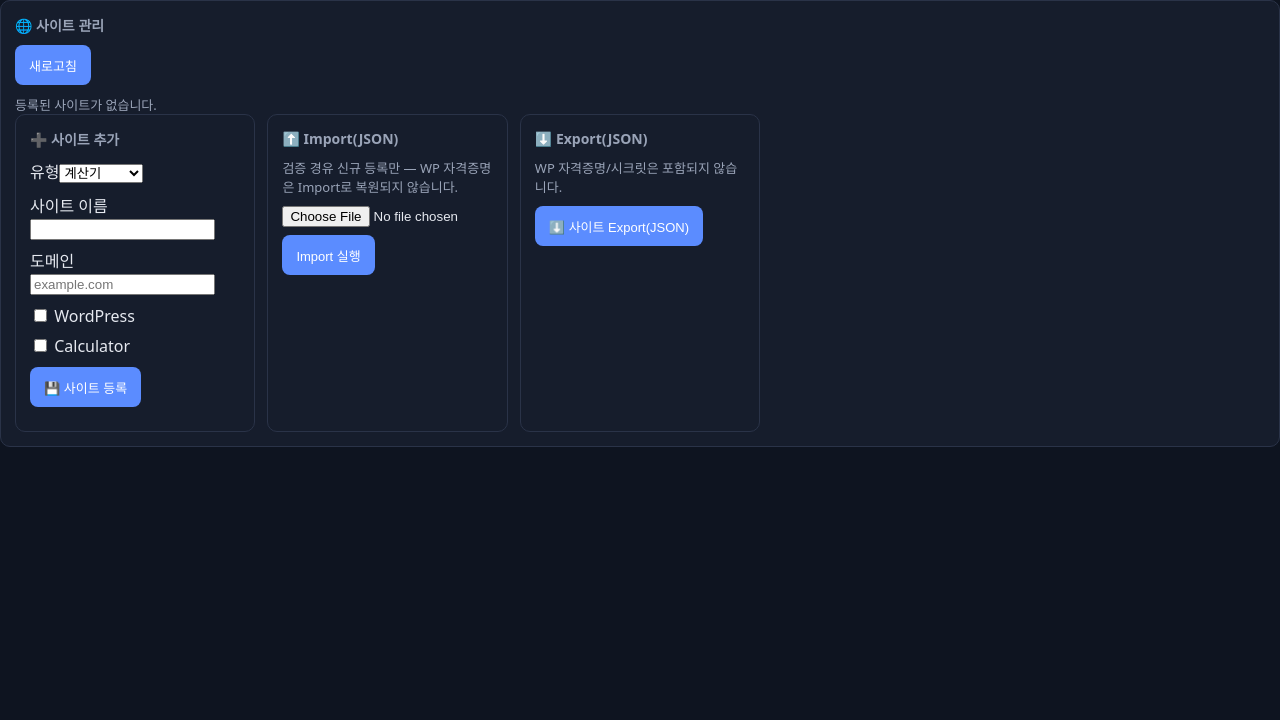
Site Create form (STEP P2-06) › shows the WordPress credential fields only when the WordPress checkbox is checked
Expected: the button "💾 사이트 등록" is enabled, [30,367,141,407]
Expected: the field labelled "WordPress URL" is not shown
Step 1. Click the checkbox labelled "WordPress" → (40, 316), box [34,309,47,322]
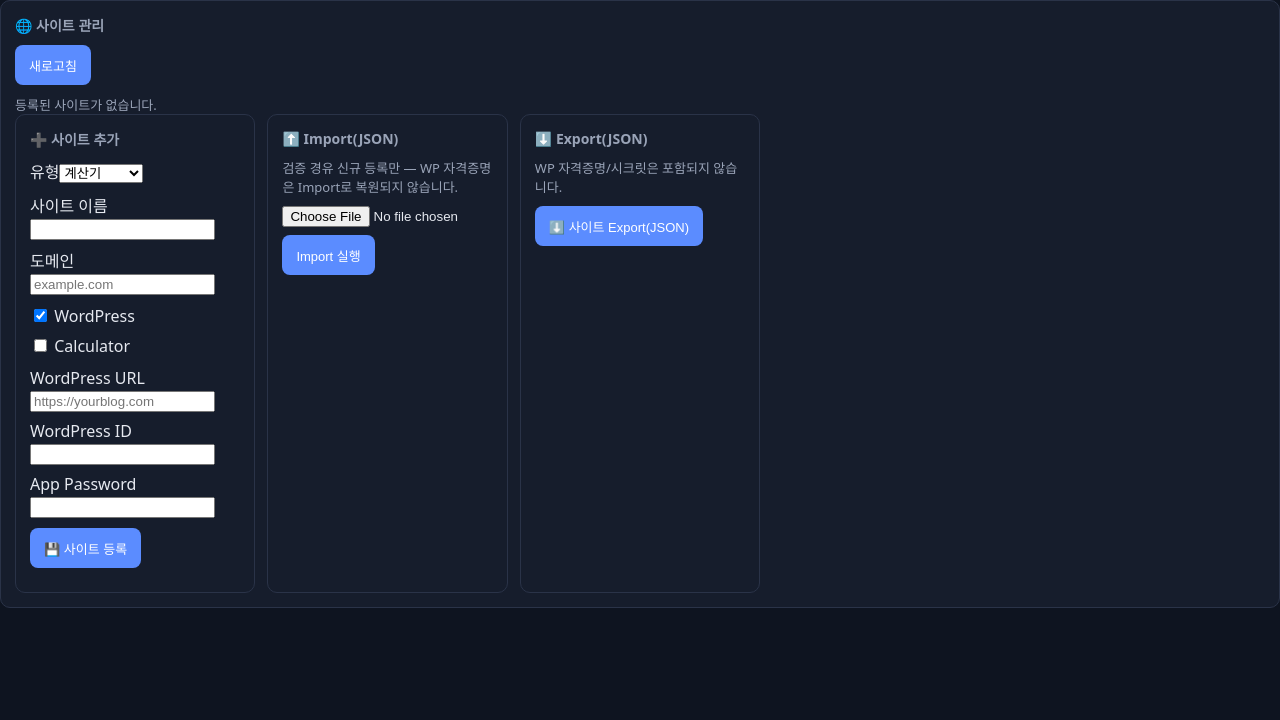
Now the field labelled "WordPress URL" is shown, box [30,391,215,412]
